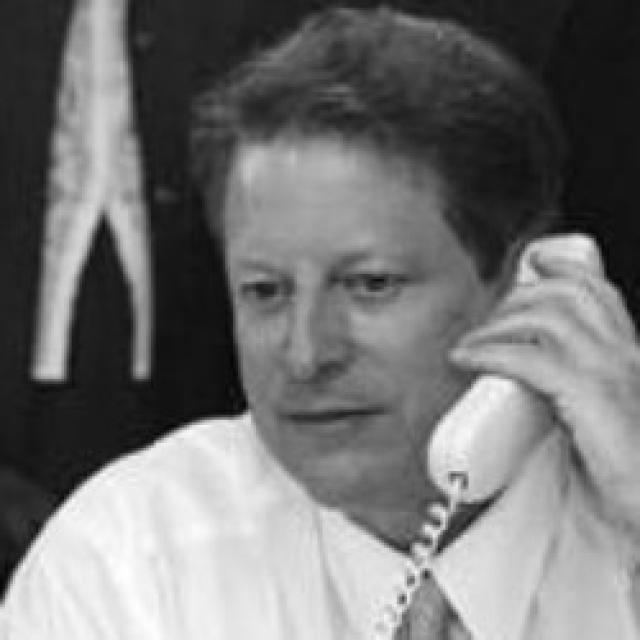real: (222, 131, 480, 505), (235, 250, 426, 325)
